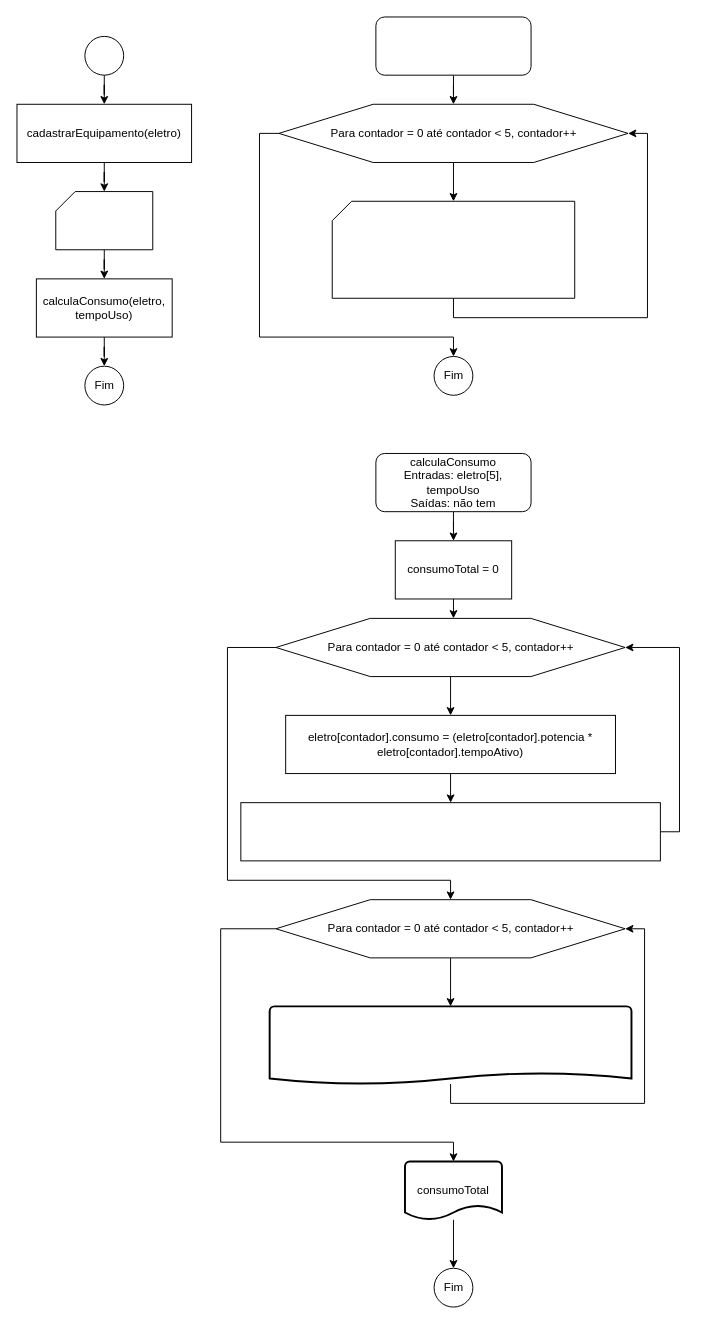
Some shapes in this 704 by 1324 pixel diagram are drawn without their labels. The shapes that lost their labels are listed below. From the top down, each one's box as (x1, y1, x2, y2) in pixels, then its label:
(84, 35, 124, 75): Início
(375, 16, 531, 75): cadastrarEquipamento Entradas: eletro[5] Saídas: não tem
(55, 191, 153, 250): Leia tempoUso
(331, 200, 575, 298): eletro[contador].nome eletro[contador].potencia eletro[contador].tempoAtivo
(240, 802, 660, 861): consumoTotal += eletro[contador].consumo
(268, 1005, 632, 1084): consumoRelativo = eletro[contador].consumo / consumoTotal
